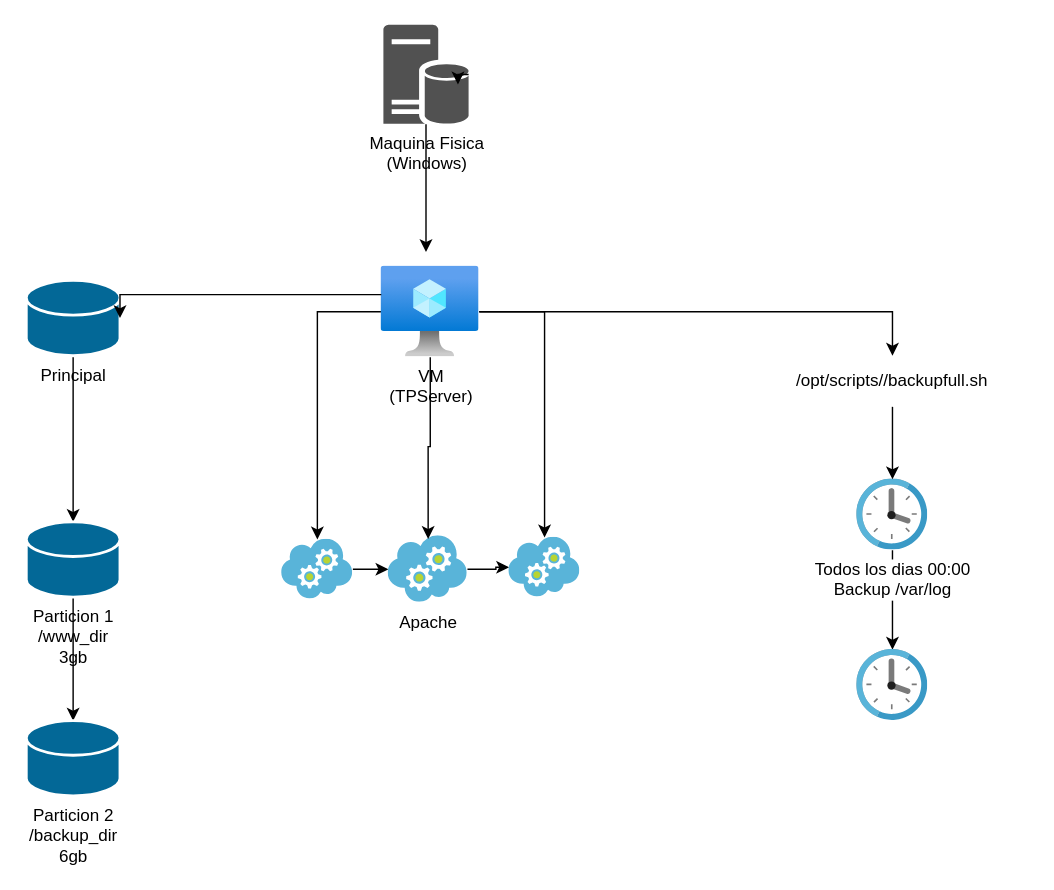
Image size: 1054x890. Some labels were removed from this diagram. Here are the shapes that lost their labels. From the top down, the centre of each, then its label:
At (316,568): "SSH".
At (543,566): ";MariaDB".
At (891,684): "Lunes,Miercoles,Viernes a las 23:00 Backup /www_dir".
